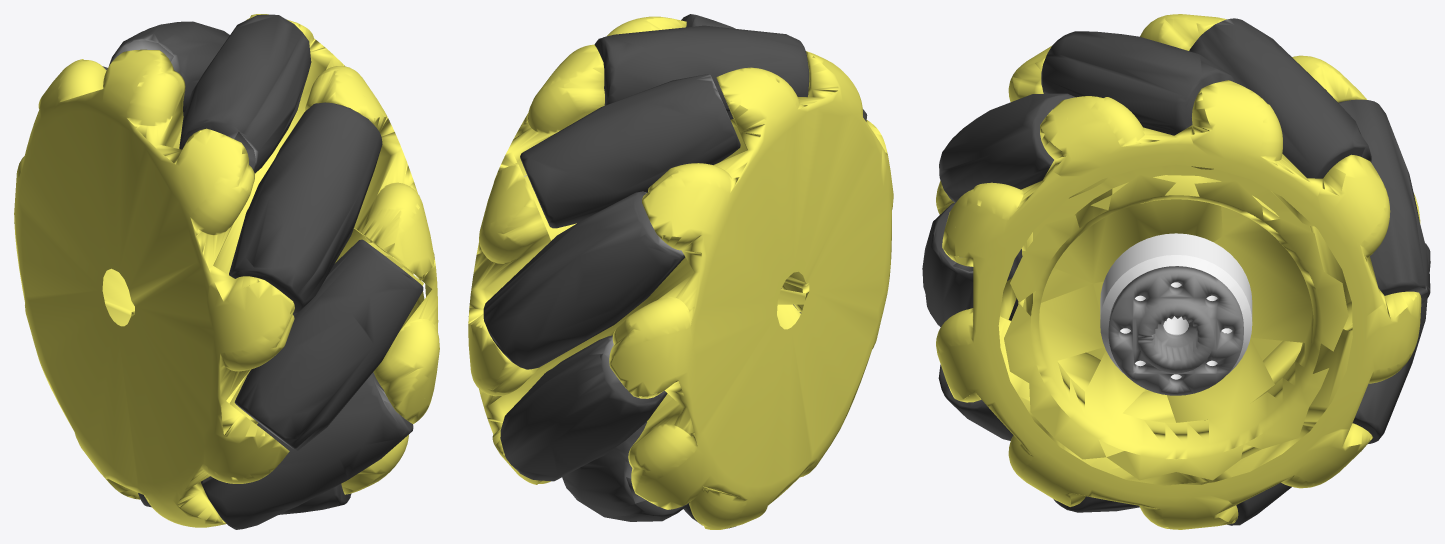
Rendered from front_right_wheel_link.dae.
The picture shows the model from 3 angles, left to right: view 1: azimuth 30°, elevation 25°; view 2: azimuth 150°, elevation 25°; view 3: azimuth 270°, elevation 25°; orthographic projection.
Parts seen in each view (by area): view 1: node19, node1, node15, node17, node5, node3, node7; view 2: node19, node13, node3, node11, node17, node9; view 3: node19, node20, node17, node3, node15, node13, node0, node1, node11, node5, node9, node7.
Part boxes in pixels (box(x1,y1,x2,y2)): node19: box(14, 14, 439, 527); node1: box(234, 239, 423, 450); node15: box(229, 102, 382, 314); node17: box(179, 14, 311, 173); node5: box(201, 372, 413, 529); node3: box(109, 21, 229, 115); node7: box(138, 484, 351, 514); node19: box(468, 16, 893, 529); node13: box(483, 191, 684, 369); node3: box(520, 74, 740, 228); node11: box(500, 335, 667, 481); node17: box(594, 25, 809, 119); node9: box(562, 422, 689, 521); node19: box(936, 14, 1421, 529); node20: box(1108, 266, 1243, 395); node17: box(1041, 31, 1235, 135); node3: box(1189, 18, 1371, 178); node15: box(939, 93, 1075, 202); node13: box(1338, 99, 1430, 303); node0: box(1100, 233, 1252, 379); node1: box(922, 202, 1022, 327); node11: box(1352, 243, 1430, 443); node5: box(938, 364, 1013, 440); node9: box(1227, 482, 1291, 525); node7: box(1053, 496, 1139, 512).
Size of the model in its own units: 0.0337 by 0.0601 by 0.0602.
